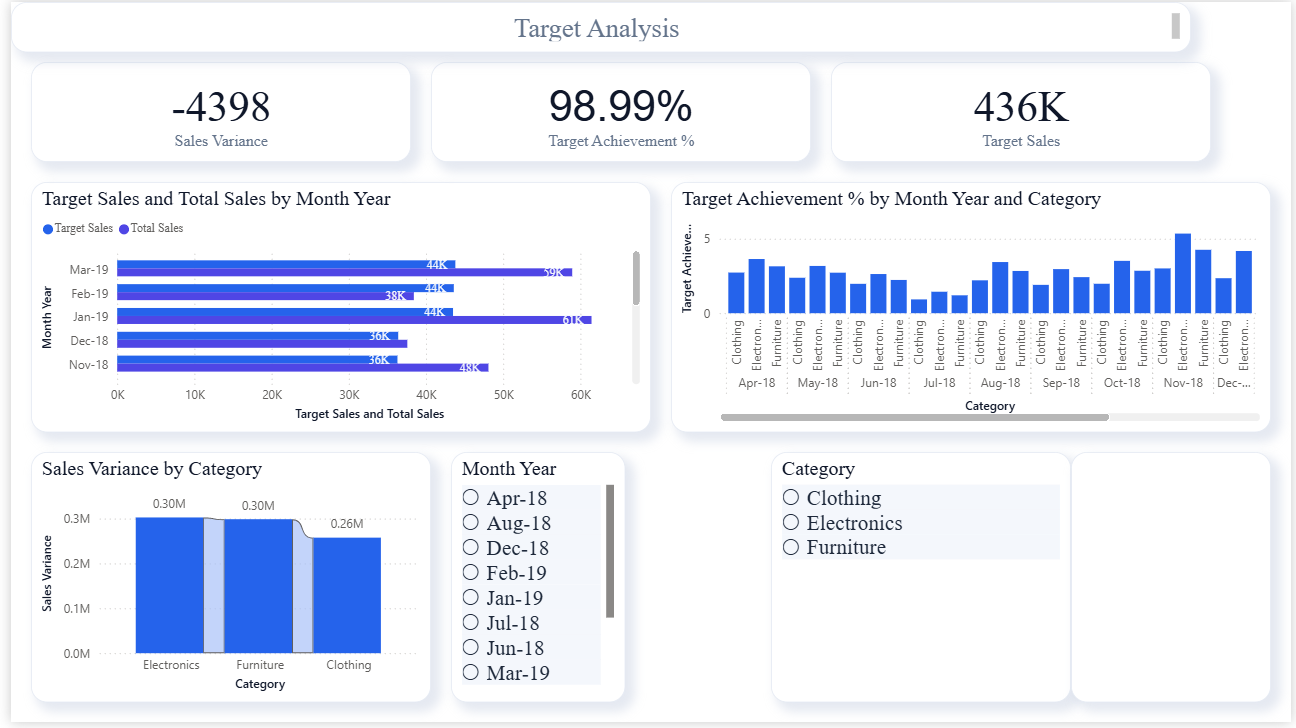

The dashboard page shown, as its layout file describes it:
{"tool":"powerbi","page":{"name":"Target Analysis ","canvas":[1280,720],"ordinal":1},"visuals":[{"type":"clusteredBarChart","fields":{"Y":["Sales_target.Target Sales","Order_Details.Total Sales"],"Category":["Sales_target.Month Year"]},"box":[20,180,620,250],"z":0},{"type":"card","fields":{"Values":["Sales_target.Sales Variance"]},"box":[20,60,380,100],"z":1000},{"type":"card","fields":{"Values":["Sales_target.Target Sales"]},"box":[820,60,380,100],"z":2000},{"type":"card","fields":{"Values":["Sales_target.Target Achievement %"]},"box":[420,60,380,100],"z":3000},{"type":"clusteredColumnChart","fields":{"Category":["Orders.Month Year","Sales_target.Category"],"Y":["Sales_target.Target Achievement %"]},"box":[660,180,600,250],"z":4000},{"type":"columnChart","fields":{"Category":["Sales_target.Category"],"Y":["Sales_target.Sales Variance"]},"box":[20,450,400,250],"z":5000},{"type":"listSlicer","fields":{"Values":["Sales_target.Month Year"]},"box":[440,450,174,250],"z":6000},{"type":"listSlicer","fields":{"Values":["Order_Details.Category"]},"box":[760,450,300,250],"z":7000},{"type":"textbox","box":[1060,450,200,250],"z":9000},{"type":"textbox","box":[0,0,1180,50],"z":10000}]}

Visuals, with their boxes in screenshot pixels (x1, y1, x2, y2), scaled from the page's 1280x720 canvas onto the 1296x728 screenshot:
clusteredBarChart - Sales_target.Target Sales x Order_Details.Total Sales: box=[20, 182, 648, 435]
card - Sales_target.Sales Variance: box=[20, 61, 405, 162]
card - Sales_target.Target Sales: box=[830, 61, 1215, 162]
card - Sales_target.Target Achievement %: box=[425, 61, 810, 162]
clusteredColumnChart - Orders.Month Year x Sales_target.Category: box=[668, 182, 1276, 435]
columnChart - Sales_target.Category x Sales_target.Sales Variance: box=[20, 455, 425, 708]
listSlicer - Sales_target.Month Year: box=[446, 455, 622, 708]
listSlicer - Order_Details.Category: box=[770, 455, 1073, 708]
textbox: box=[1073, 455, 1276, 708]
textbox: box=[0, 0, 1195, 51]
